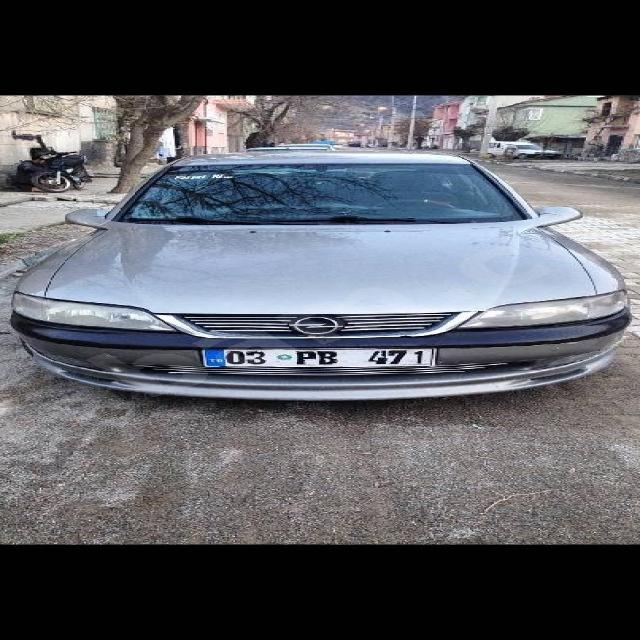license_plate: (200, 348, 434, 366)
